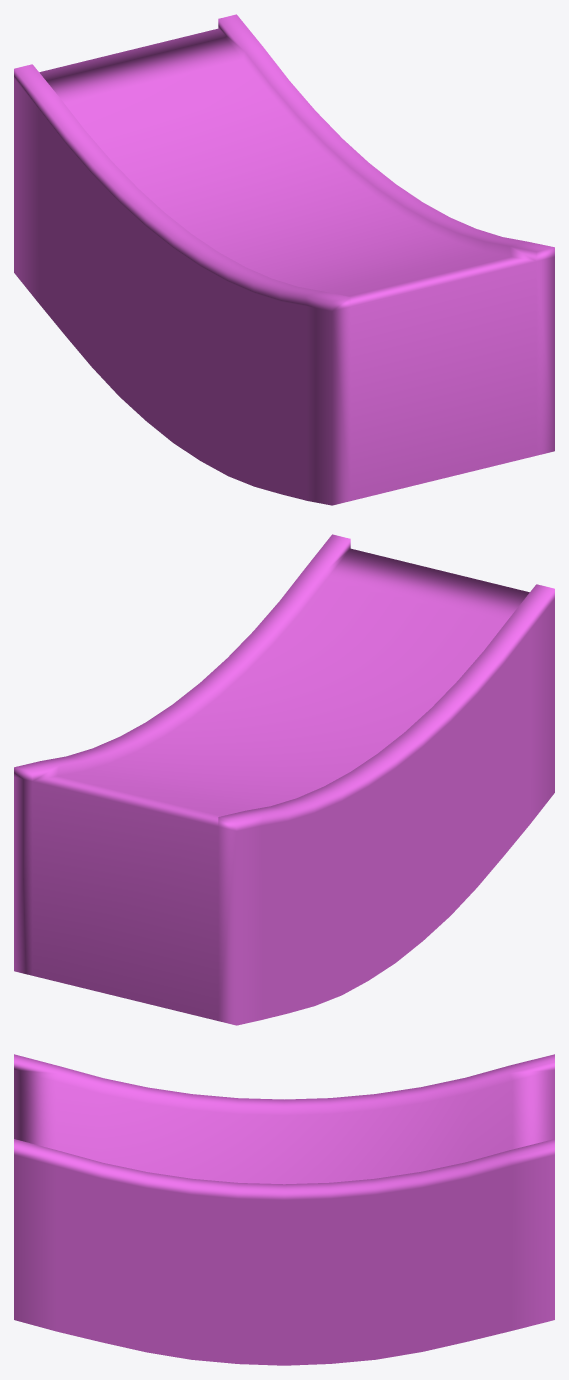
File: RD_Dip_Bridge1_Mid1.fbx
3 views of the same model, one above another, from view 1: azimuth 30°, elevation 25°; view 2: azimuth 150°, elevation 25°; view 3: azimuth 270°, elevation 25° (orthographic). The views are drawn at different scales.
Visible parts, largest first — view 1: Mesh; view 2: Mesh; view 3: Mesh.
Boxes of the visible parts, x1,y1,x2,y2 form: Mesh: [14, 14, 554, 505]; Mesh: [14, 534, 554, 1025]; Mesh: [14, 1054, 554, 1365].
Size of the model in its own units: 480 by 531 by 1188.
